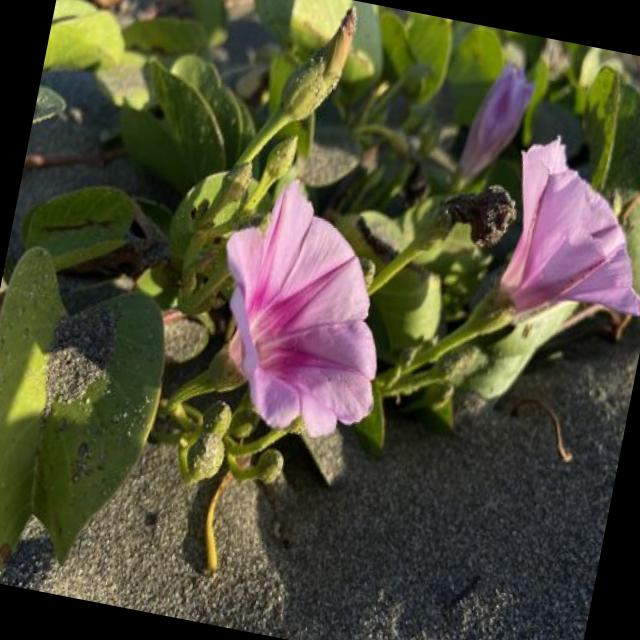ipomoea: (188, 166, 416, 455), (480, 125, 640, 350)
